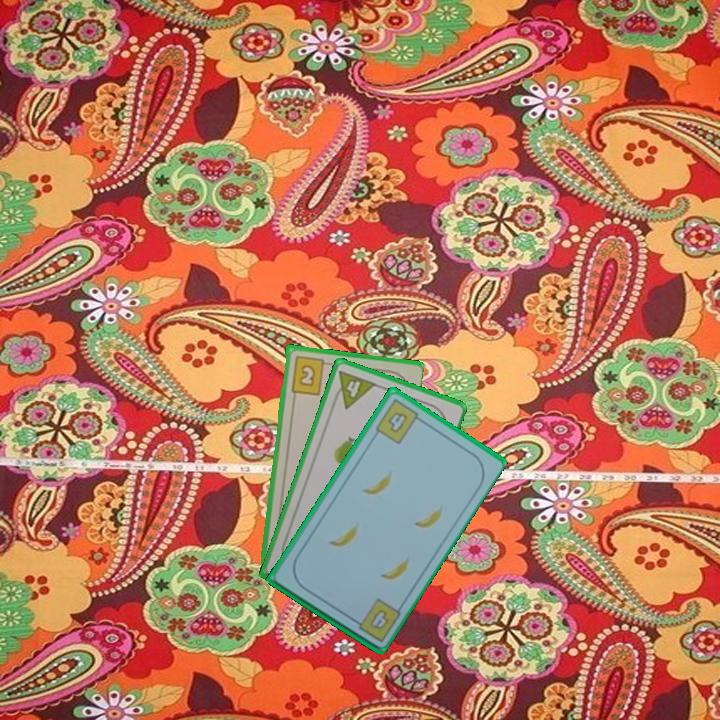2b: (287, 352, 333, 397)
4b: (371, 395, 426, 447), (348, 595, 403, 645)
4p: (328, 366, 379, 412)
